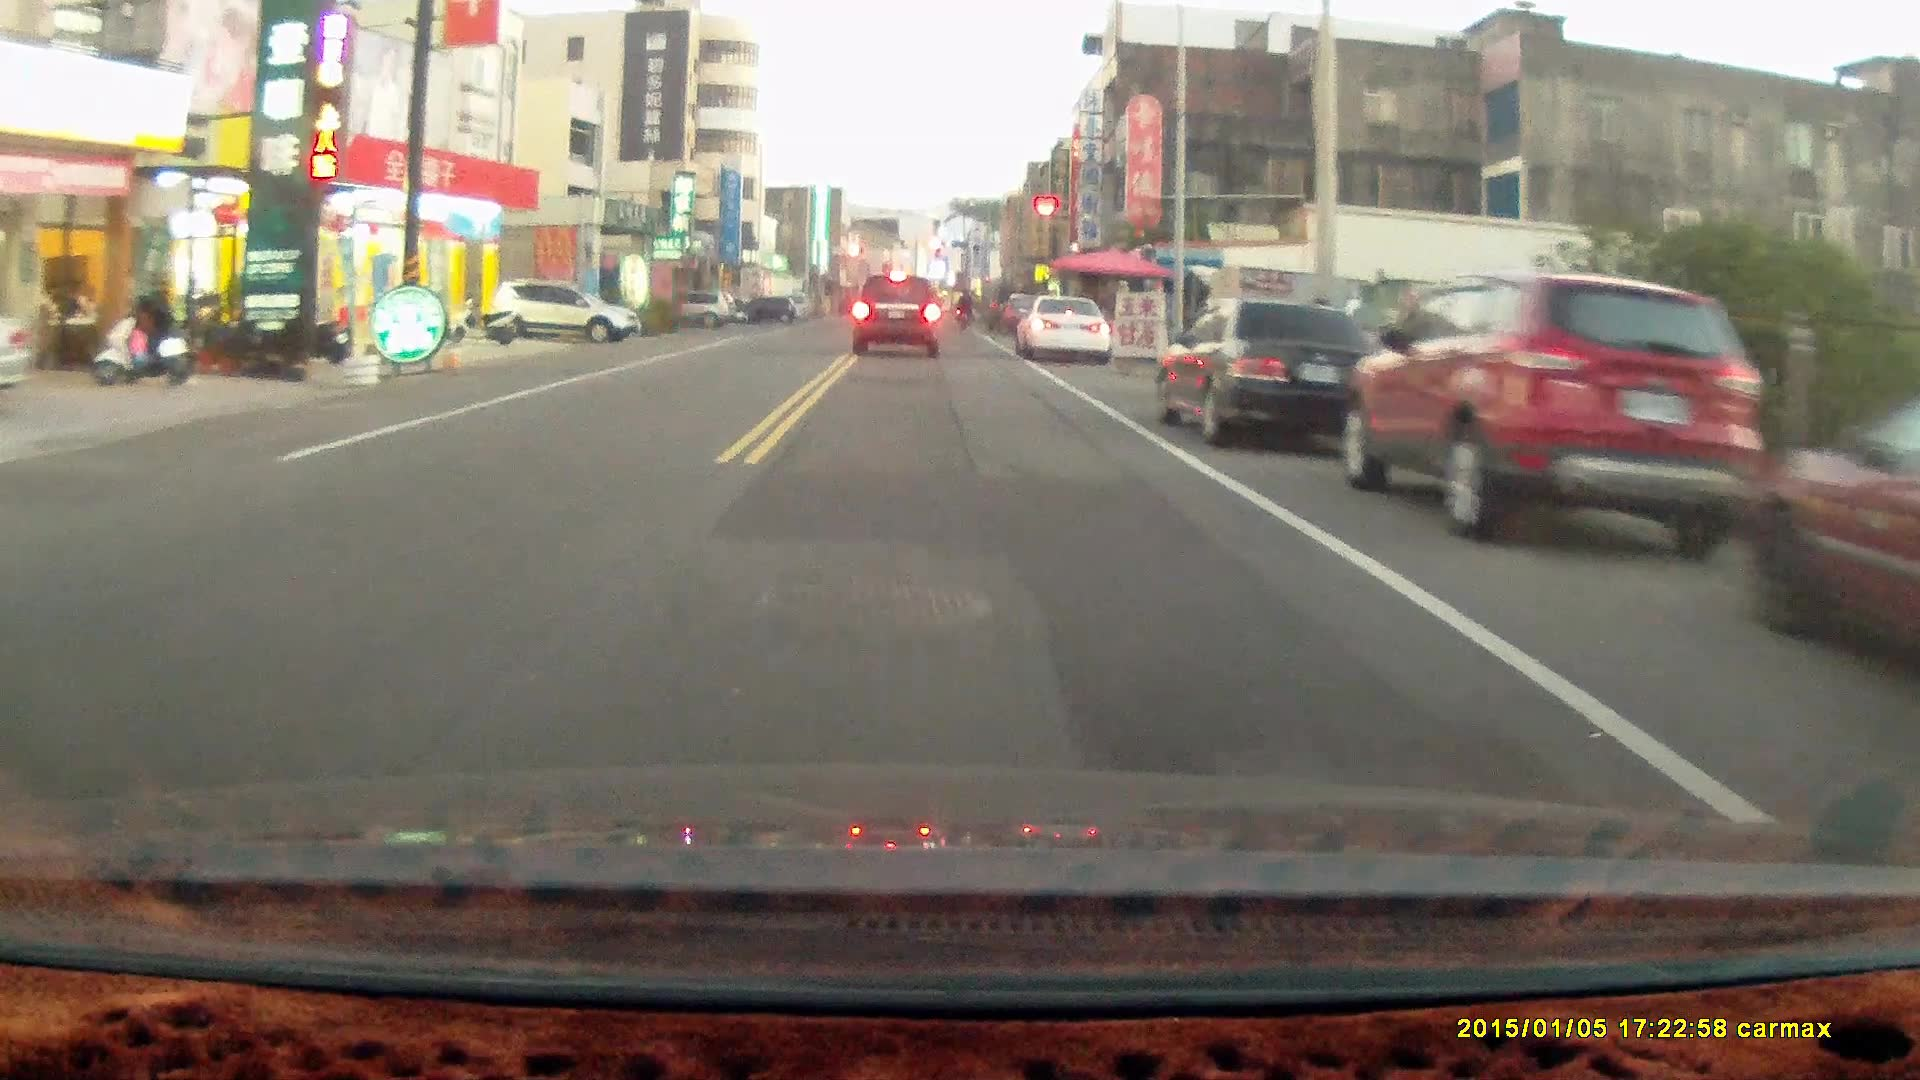vehicle: (1338, 269, 1771, 559), (1151, 298, 1374, 452), (492, 280, 647, 353), (853, 274, 943, 360), (1018, 298, 1116, 368)
